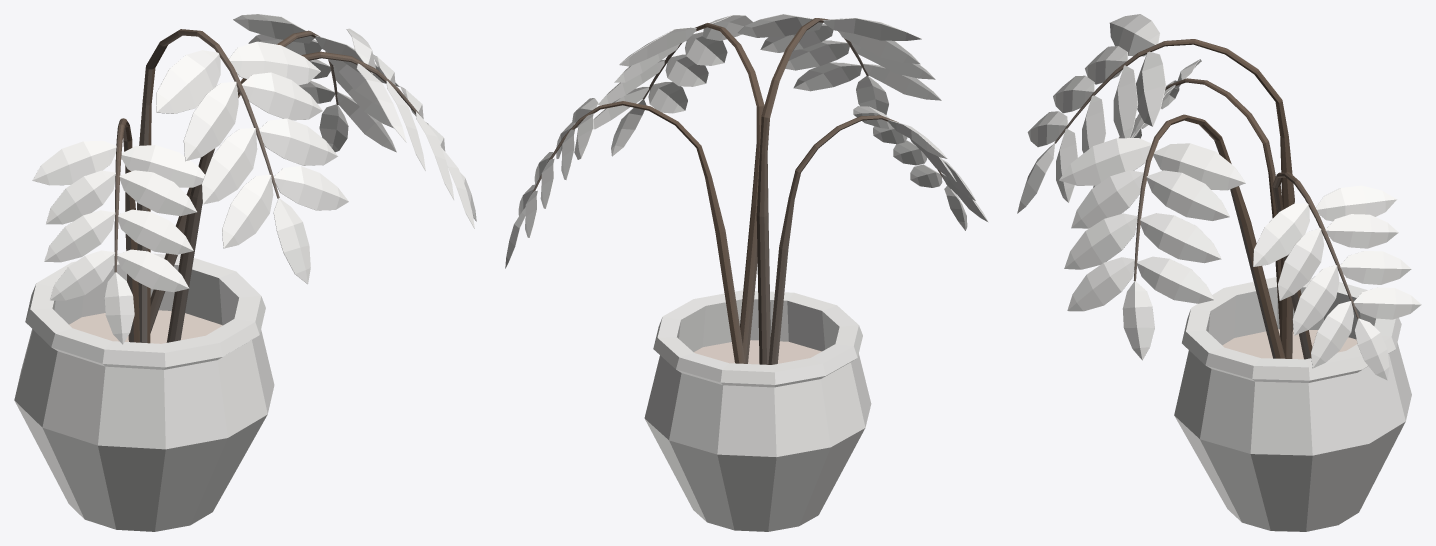
The model's file is Yogaroom_flower1.fbx.
3 renders of one model, left to right at view 1: azimuth 30°, elevation 25°; view 2: azimuth 150°, elevation 25°; view 3: azimuth 270°, elevation 25°, orthographic. The views are drawn at different scales.
Parts seen in each view (by area): view 1: Yogaroom_flower1; view 2: Yogaroom_flower1; view 3: Yogaroom_flower1.
Boxes of the visible parts, box(x1,y1,x2,y2) form: Yogaroom_flower1: box(14, 14, 476, 531); Yogaroom_flower1: box(505, 14, 988, 531); Yogaroom_flower1: box(1017, 14, 1421, 531).
Bounding box in the file's own units: 145 × 160 × 125.
